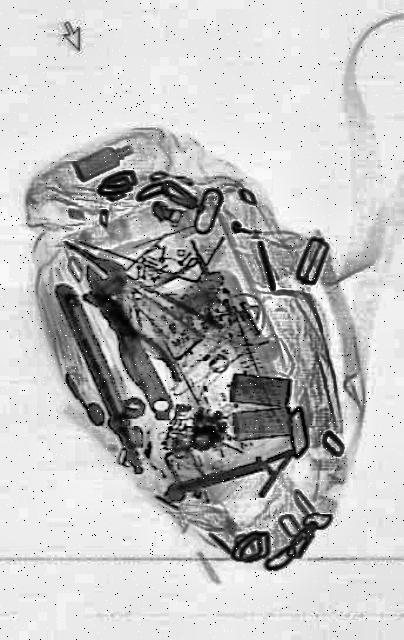Pliers: (74, 252, 186, 420), (62, 236, 220, 346)
Wrench: (75, 245, 193, 437)
